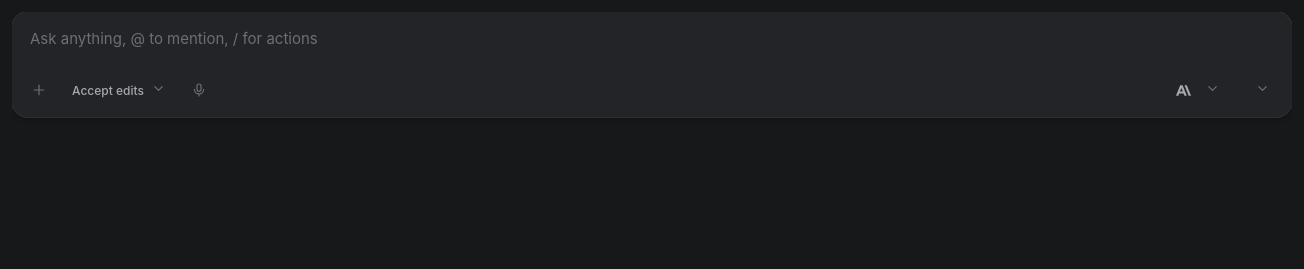
Scenario: Composer attachments › reports the exact rendered remainder after an accepted pending submit
This screenshot has width=1304, height=269.
In the text box: (652, 39) [12,12,1292,66], type "submitted"
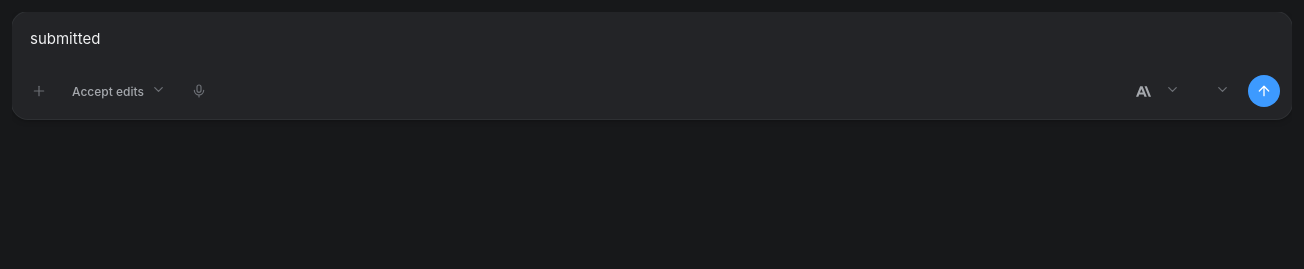
Click the button named "Send": click(1264, 91) [1248,75,1280,107]
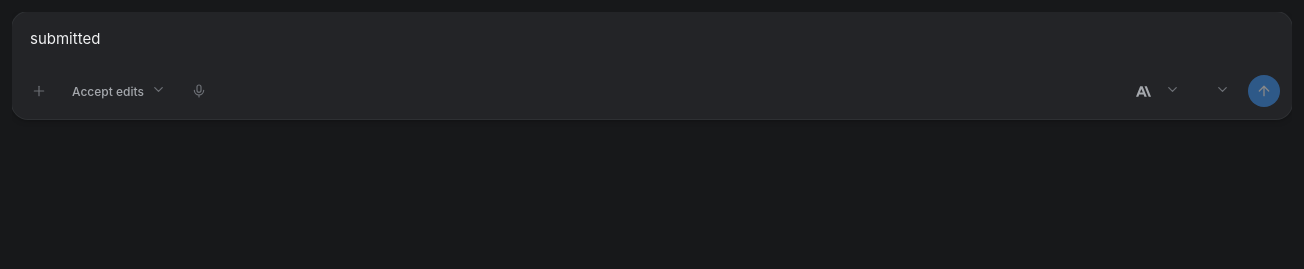
Replace the text in the text box with "late text": (652, 39) [12,12,1292,66]
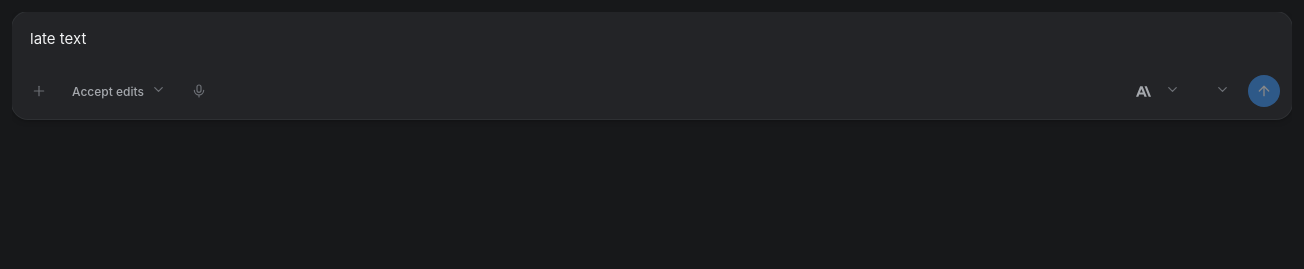
Click the button named "Add context": click(39, 91) [24,76,54,106]
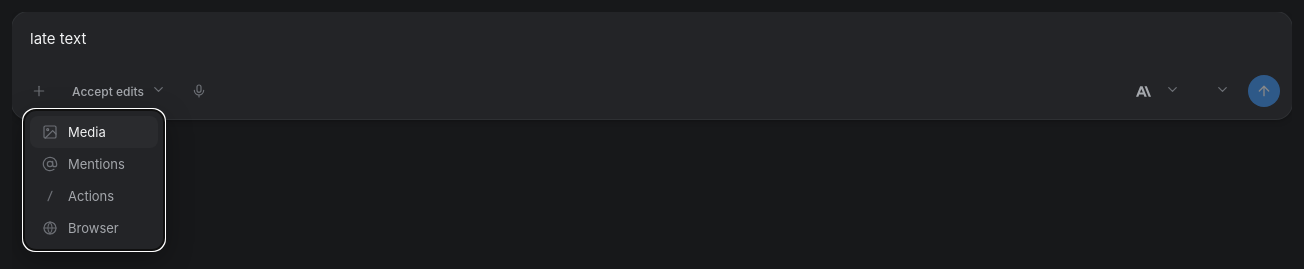
Click the option "Media": click(94, 132) [30,116,158,148]
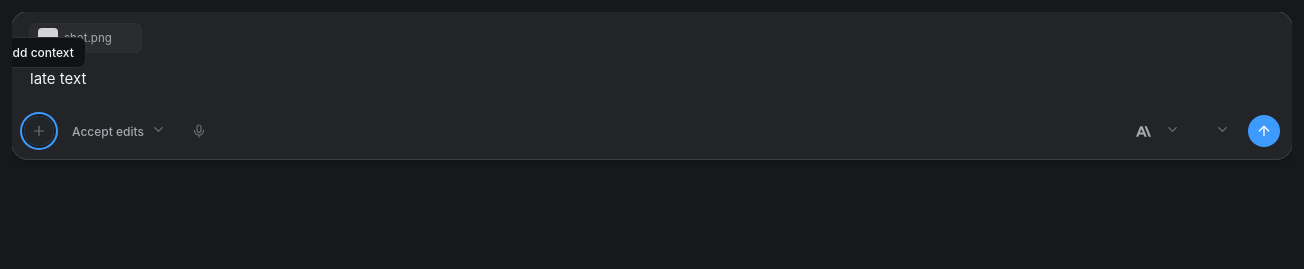
Now the text "shot.png" is shown, box [64,31,112,45]
